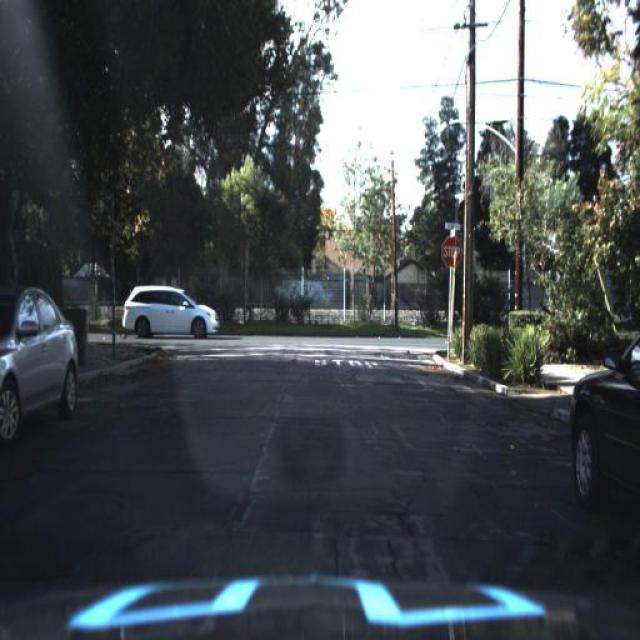car: (566, 317, 640, 531), (0, 284, 80, 454), (94, 278, 240, 352), (116, 285, 223, 336)
